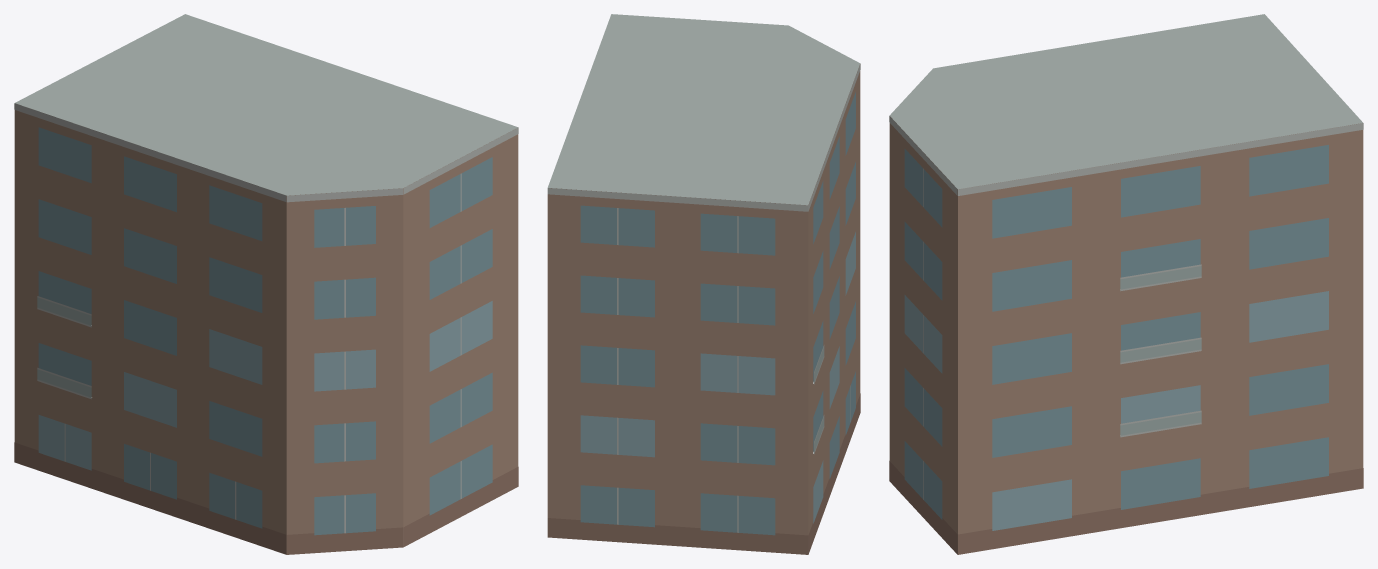
The model's file is survey-upis-32745972.glb.
The picture shows the model from 3 angles, left to right: view 1: azimuth 30°, elevation 25°; view 2: azimuth 150°, elevation 25°; view 3: azimuth 270°, elevation 25°; orthographic projection. The views are drawn at different scales.
Parts seen in each view (by area): view 1: survey-upis-32745972.tmp; view 2: survey-upis-32745972.tmp; view 3: survey-upis-32745972.tmp.
Boxes of the visible parts, x1=… form: survey-upis-32745972.tmp: x1=14, y1=14, x2=518, y2=554; survey-upis-32745972.tmp: x1=547, y1=14, x2=860, y2=554; survey-upis-32745972.tmp: x1=889, y1=14, x2=1363, y2=554.
Size of the model in its own units: 13.49 by 13.1 by 15.41.
